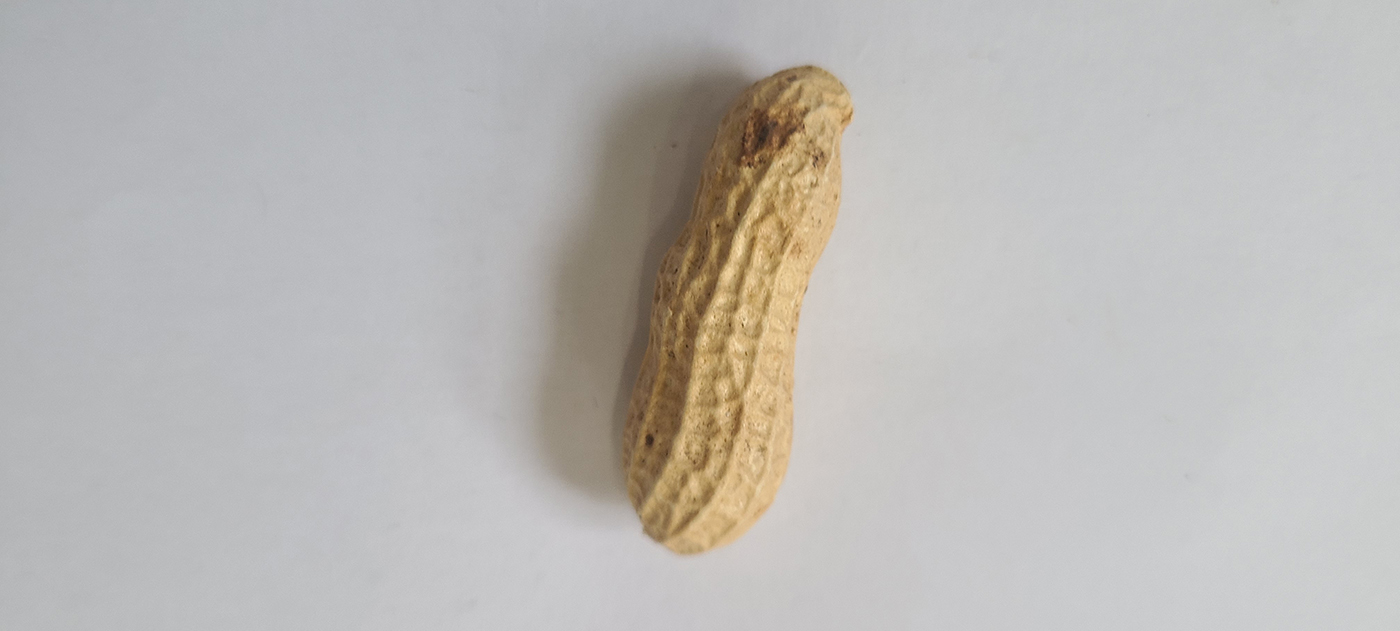h: (618, 64, 855, 559)
